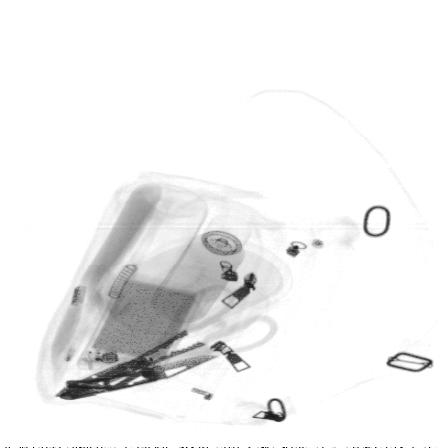Knife: (57, 352, 227, 405)
Powerbank: (75, 272, 207, 380)
Scissors: (54, 285, 278, 394)
Sprayer: (150, 215, 252, 321)
